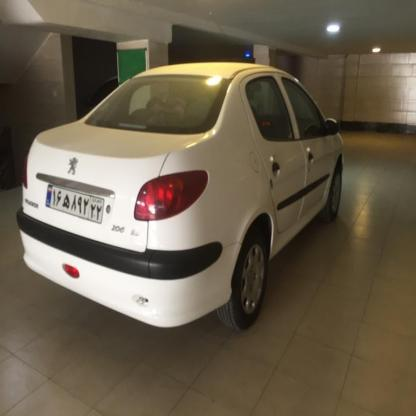Car: (13, 60, 346, 344)
